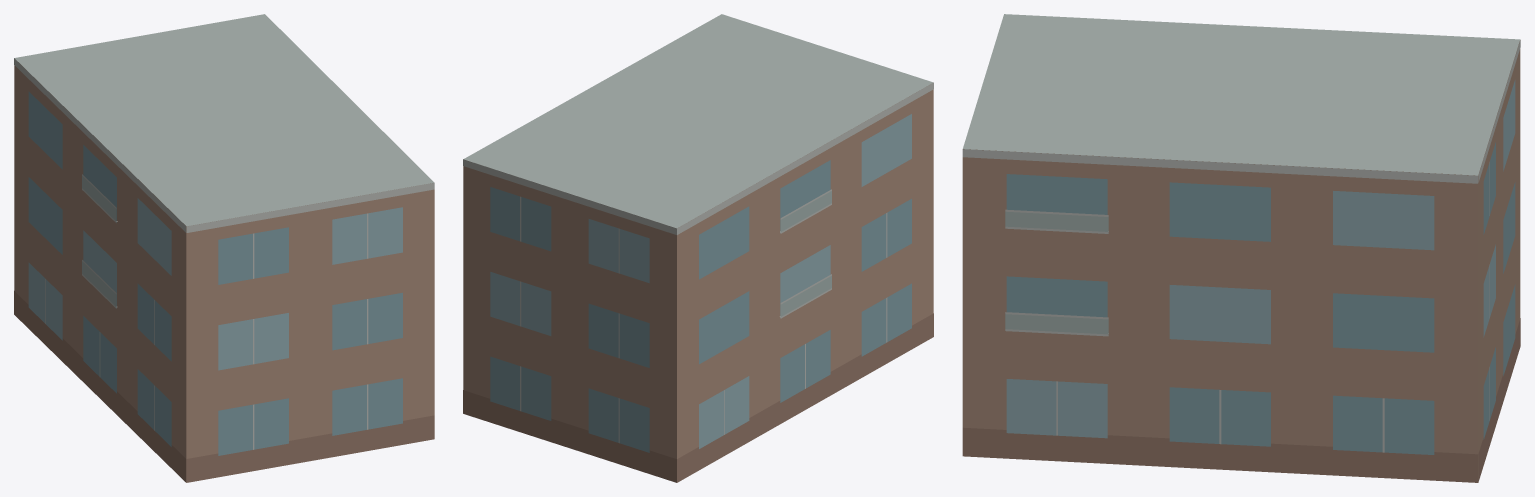
Rendered from survey-upis-32666393.glb.
3 renders of one model, left to right at view 1: azimuth 30°, elevation 25°; view 2: azimuth 150°, elevation 25°; view 3: azimuth 270°, elevation 25°, orthographic. The views are drawn at different scales.
Visible parts, largest first — view 1: survey-upis-32666393.tmp; view 2: survey-upis-32666393.tmp; view 3: survey-upis-32666393.tmp.
Boxes of the visible parts, <box> form: survey-upis-32666393.tmp: <box>14,14,434,482</box>; survey-upis-32666393.tmp: <box>463,14,933,482</box>; survey-upis-32666393.tmp: <box>962,14,1520,482</box>.
Bounding box in the file's own units: 10.33 × 9.15 × 15.06.
